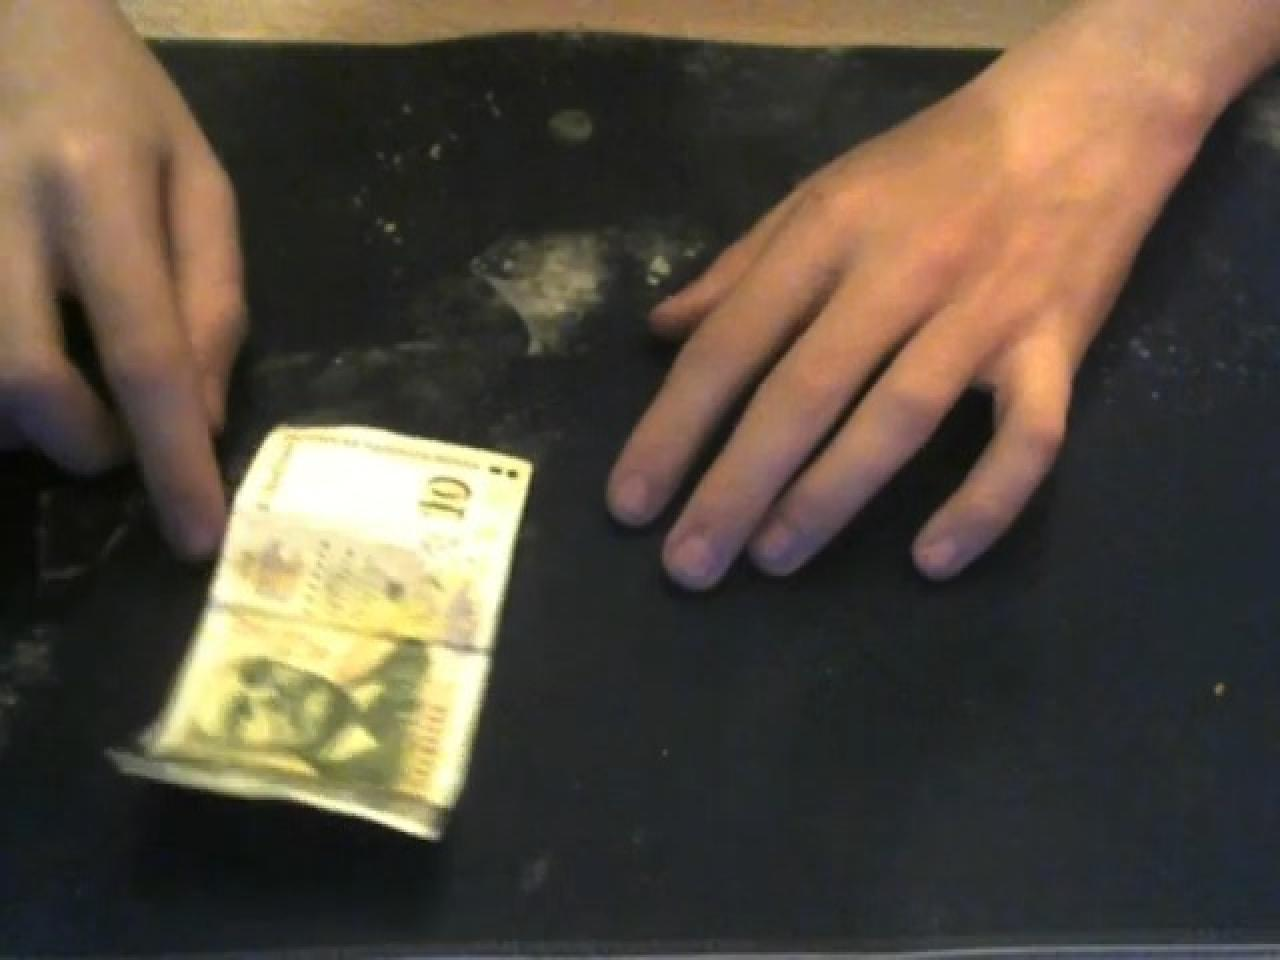10leva: (108, 424, 534, 845)
